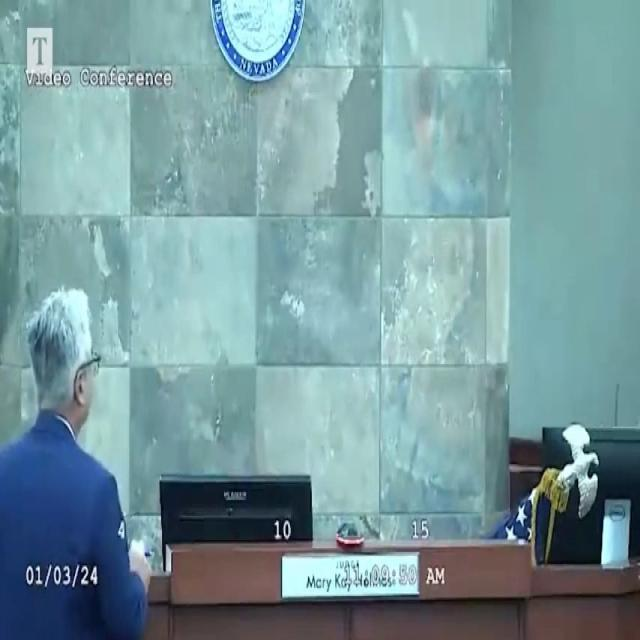non-fight: (0, 273, 159, 640)
